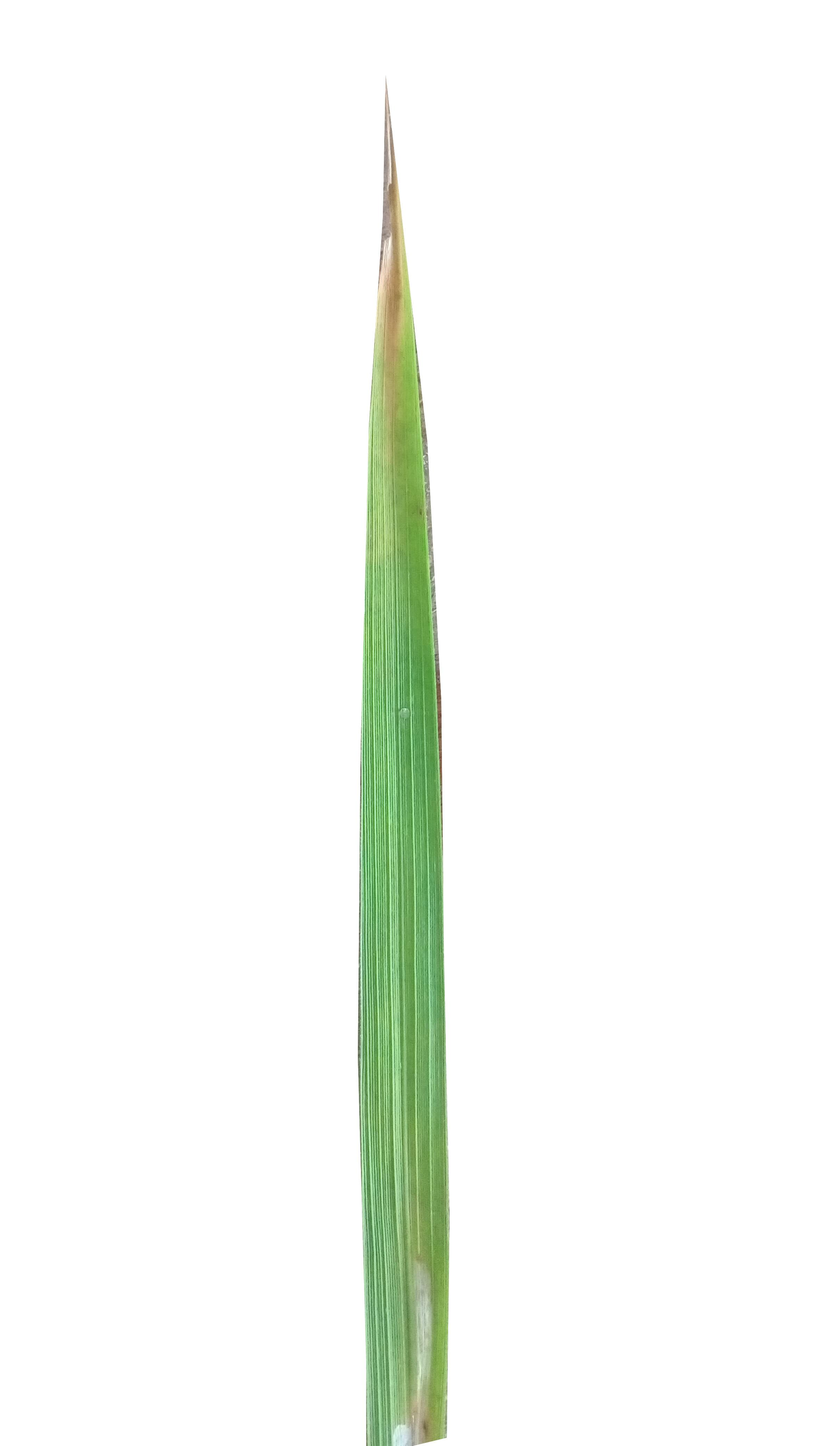Blight: (395, 1243, 434, 1440)
Tungro: (367, 175, 438, 628)
